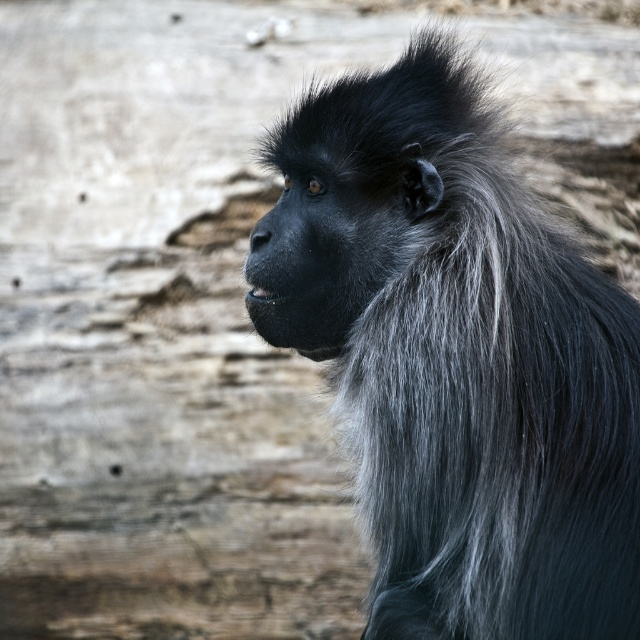Monkey: (244, 14, 640, 640)
